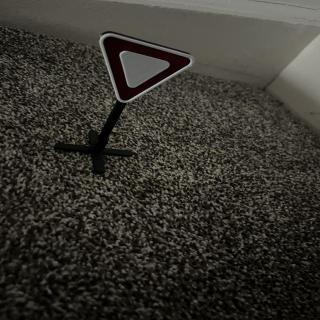sign_yield: (101, 33, 197, 106)
